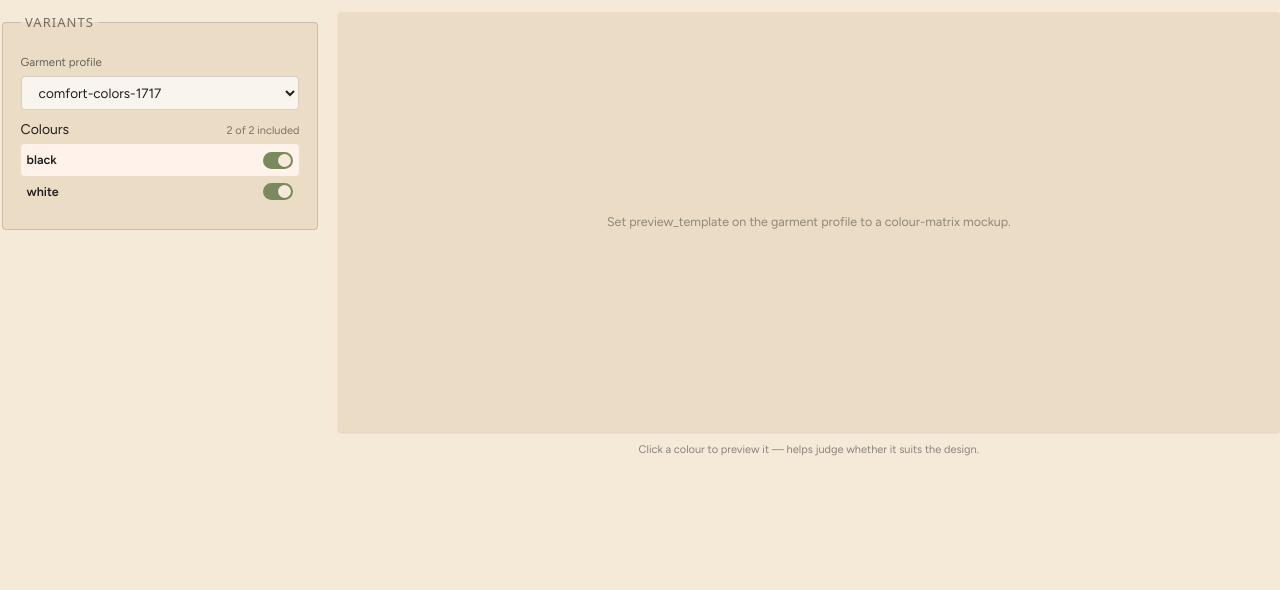
Scenario: VariantsTab › says so when a colour change threw listing images away
Click the switch named "white" at {"x": 278, "y": 192}, box [263,183,293,200]
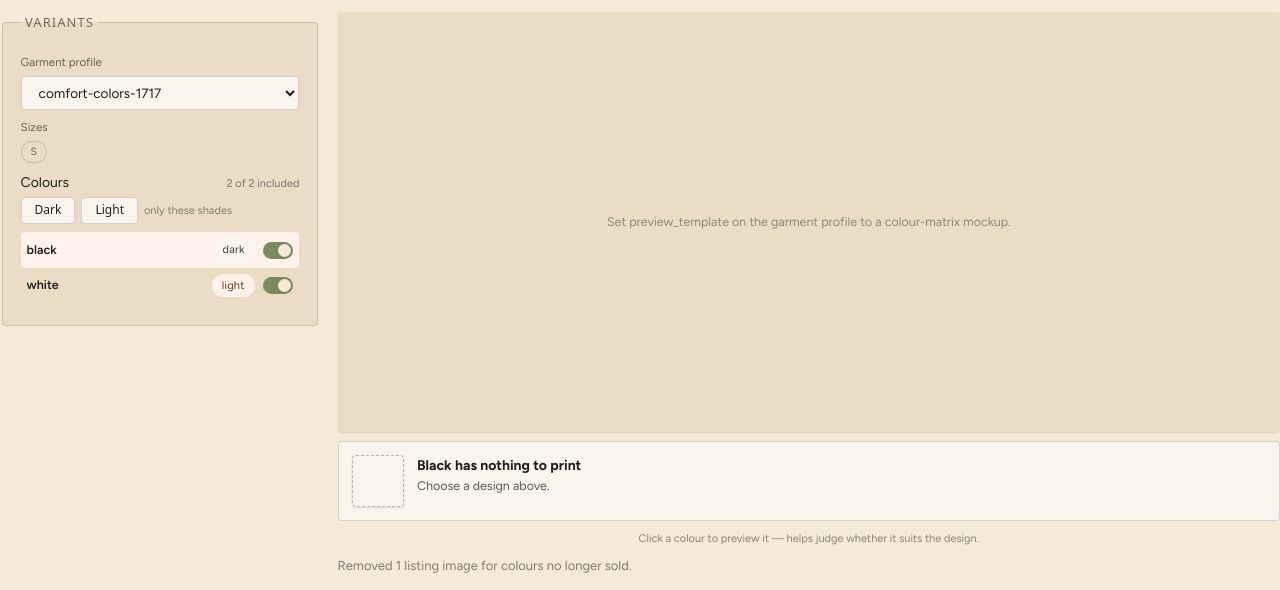
Expected: the text "Removed 1 listing image for colours no longer sold." is shown, [338,558,632,573]
